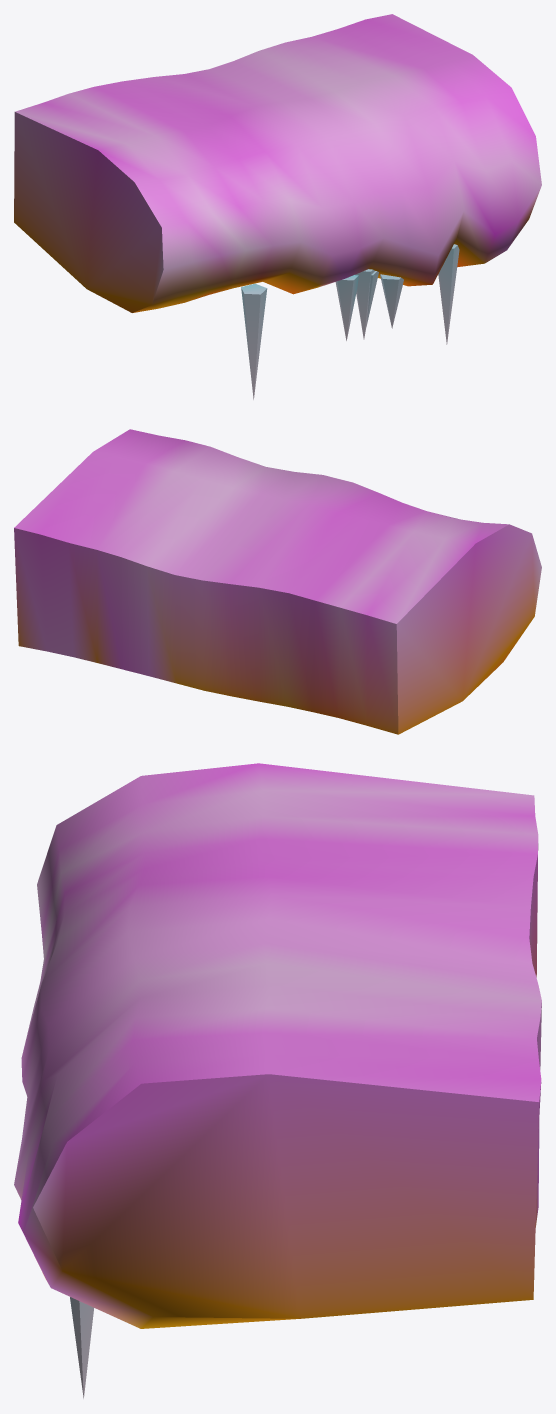
File: env_lip_snow.glb
The picture shows the model from 3 angles, top to bottom: view 1: azimuth 30°, elevation 25°; view 2: azimuth 150°, elevation 25°; view 3: azimuth 270°, elevation 25°; orthographic projection. The views are drawn at different scales.
Parts seen in each view (by area): view 1: env_lip_snow; view 2: env_lip_snow; view 3: env_lip_snow.
Boxes of the visible parts, x1,y1,x2,y2 form: env_lip_snow: [14, 14, 541, 399]; env_lip_snow: [14, 429, 541, 734]; env_lip_snow: [14, 763, 541, 1398].
Bounding box in the file's own units: 1.12 × 0.6669 × 0.7858.
